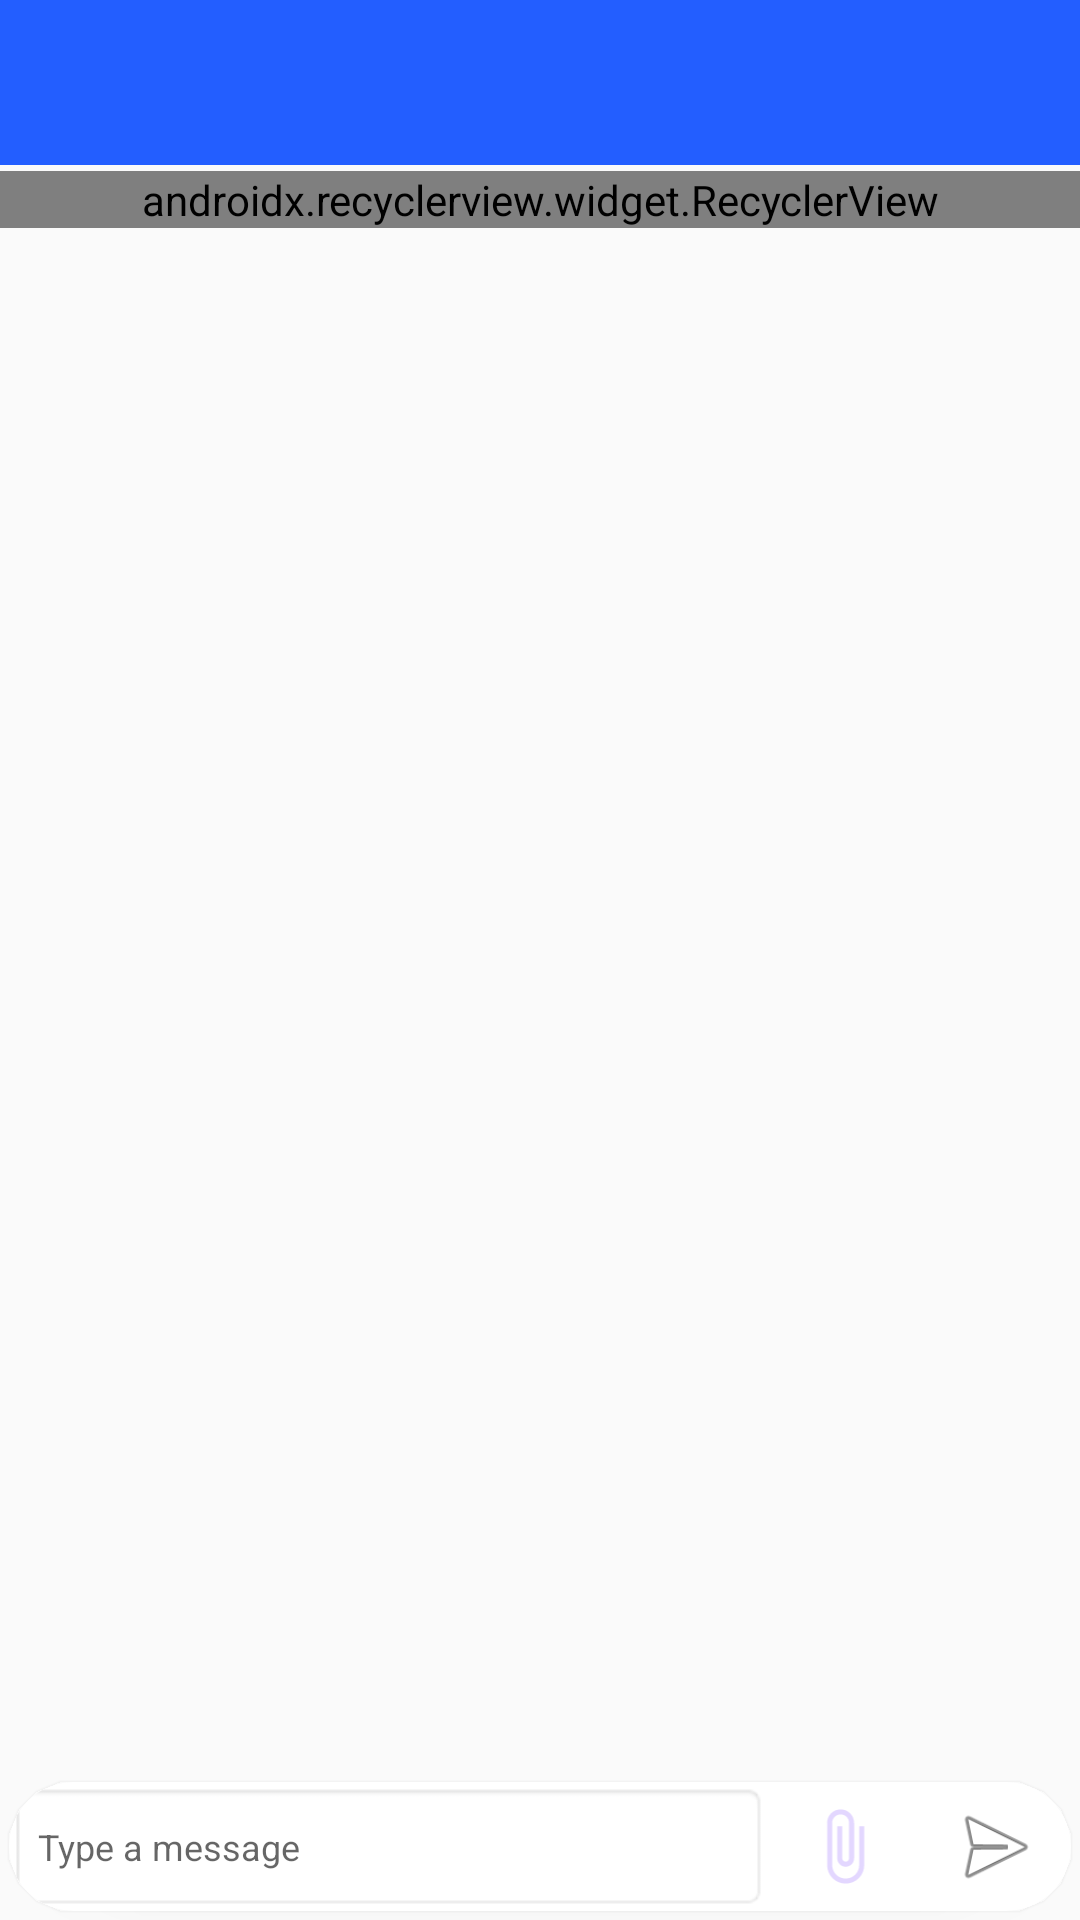

Screen size 1080w x 1920h. Icon name, then its center in pixels as (x,y):
attach: (845,1846)
send: (996,1847)
